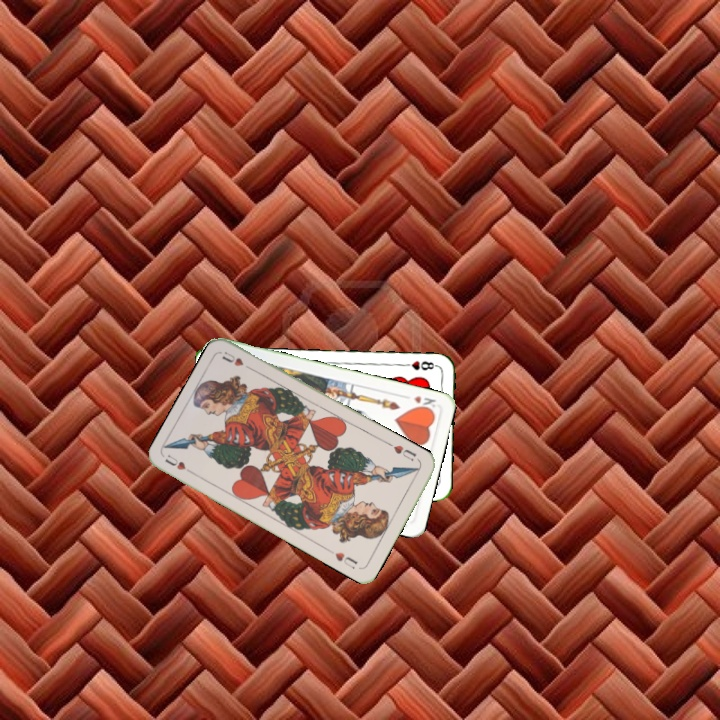H8: (399, 357, 439, 373)
HK: (410, 391, 438, 414)
HU: (161, 450, 198, 478), (390, 441, 419, 464)
